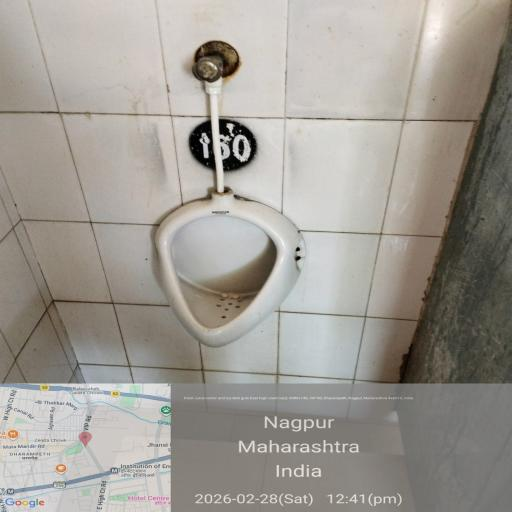partial_dirty_floor: (251, 13, 460, 217), (3, 239, 157, 380), (306, 234, 449, 376), (78, 79, 188, 201)
partial_dirty_urinal: (152, 209, 297, 339)
